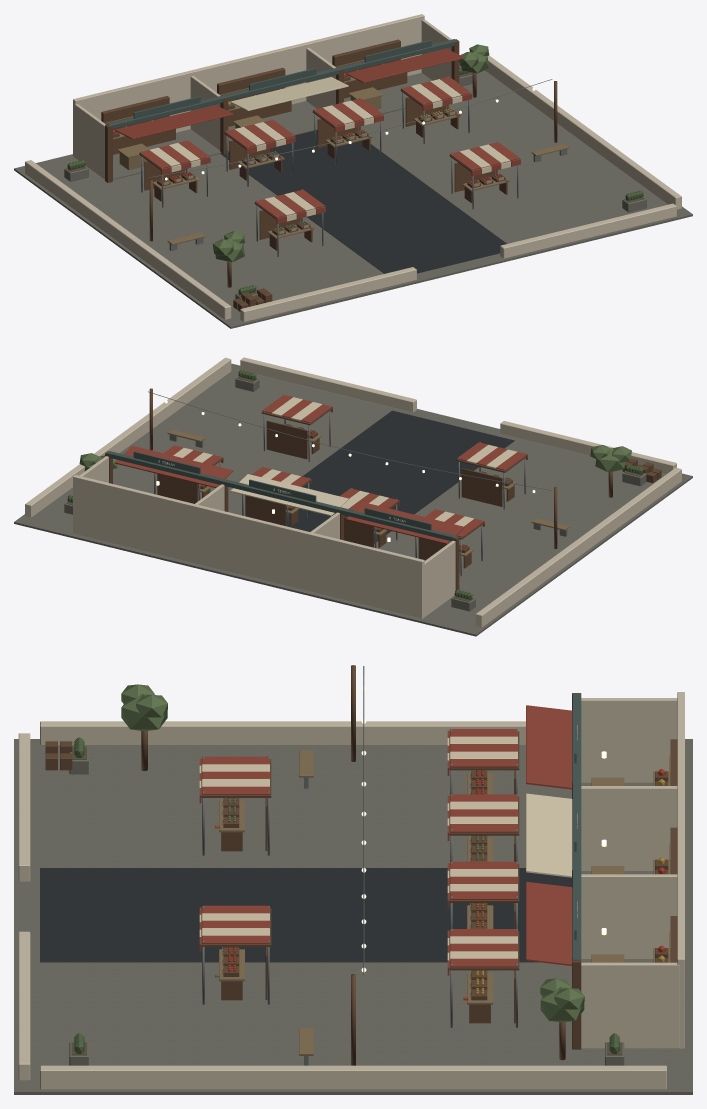
The model's file is market_square.glb.
3 renders of one model, top to bottom at view 1: azimuth 30°, elevation 25°; view 2: azimuth 150°, elevation 25°; view 3: azimuth 270°, elevation 25°, orthographic. The views are drawn at different scales.
Visible parts, largest first — view 1: DD_market_square; view 2: DD_market_square; view 3: DD_market_square.
Boxes of the visible parts, x1,y1,x2,y2 form: DD_market_square: (14,14,692,328); DD_market_square: (14,357,692,636); DD_market_square: (14,665,692,1094).
Bounding box in the file's own units: 32 × 4.3 × 26.
20 materials, 11 textured.
